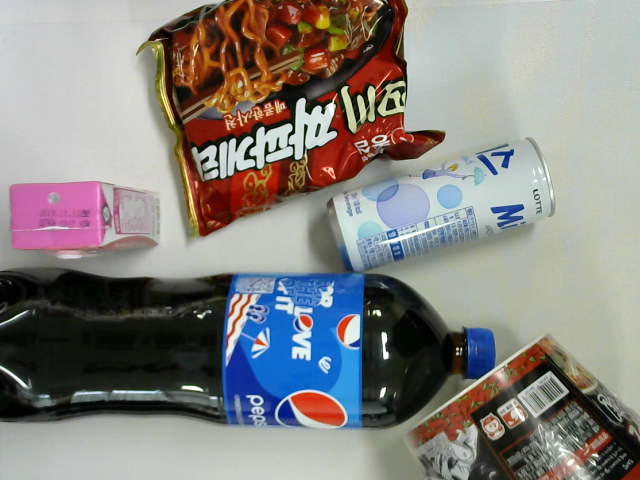HeJangsock: (401, 330, 640, 480)
Milkies_250ml: (326, 136, 557, 271)
Pepsi_Cola_1.5L: (1, 271, 497, 429)
Sichuan_Chapaghetti: (135, 1, 444, 239)
Strawberry_E_Mong: (11, 181, 161, 260)
